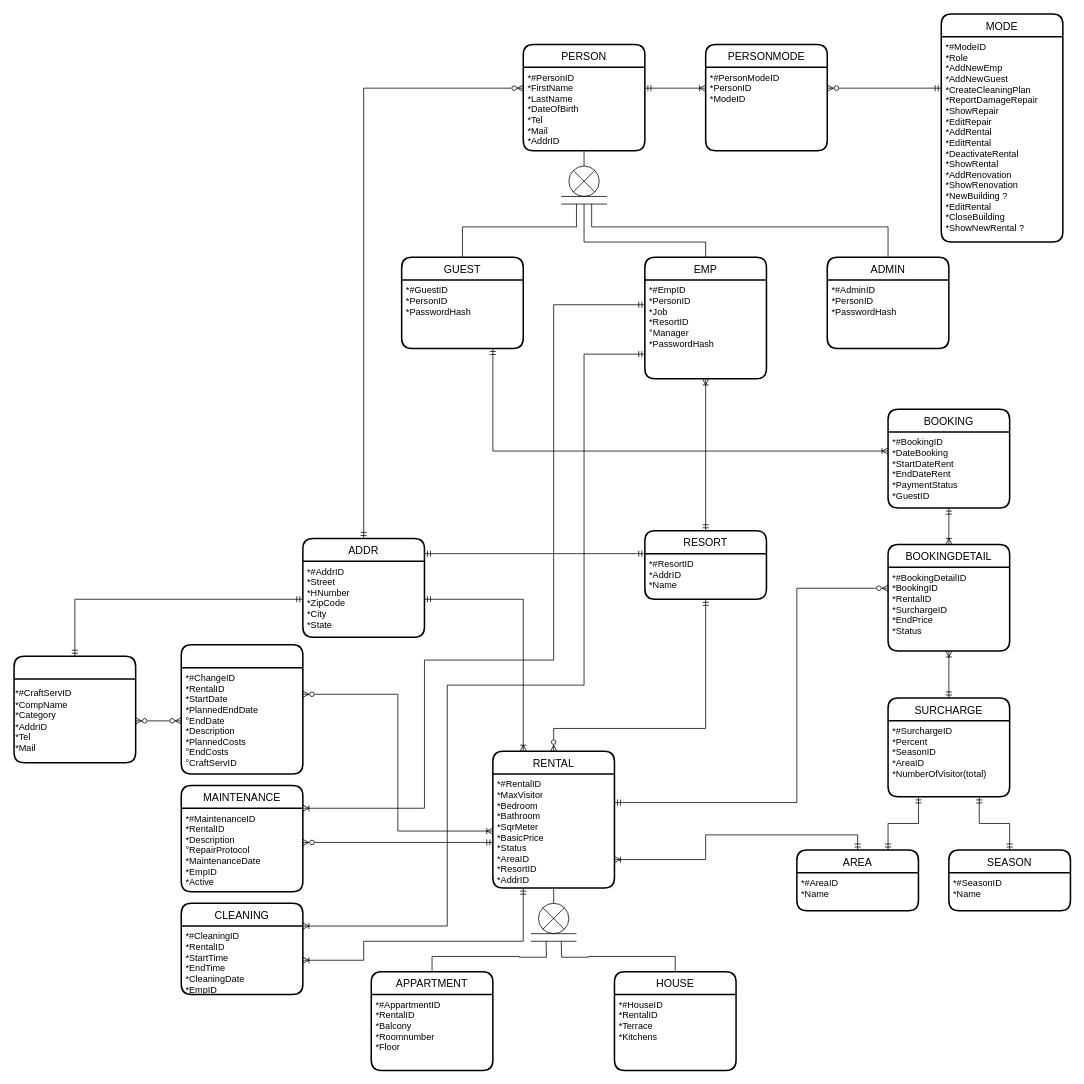
Image size: 1084x1084. Some labels were removed from this diagram. Each missing label, with the box of its shape:
CRAFTSERVICE: (13, 655, 136, 763)
STRUCCHANGE: (180, 644, 303, 774)
